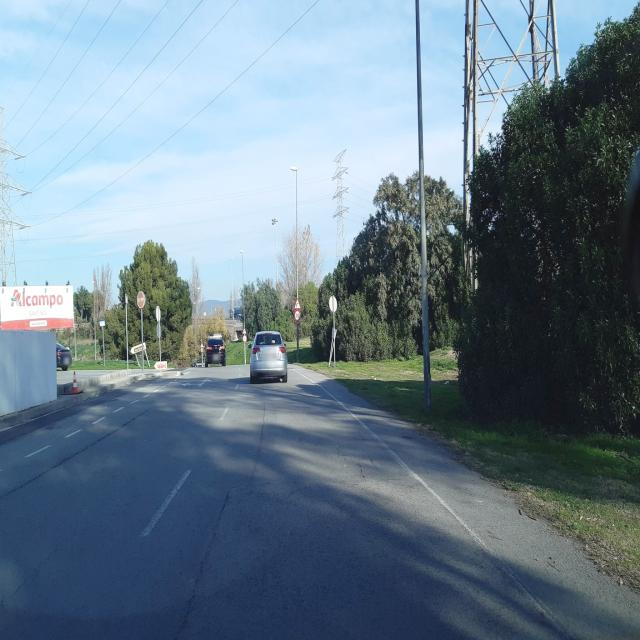car: (249, 330, 288, 383), (204, 334, 227, 366), (56, 342, 72, 371)
